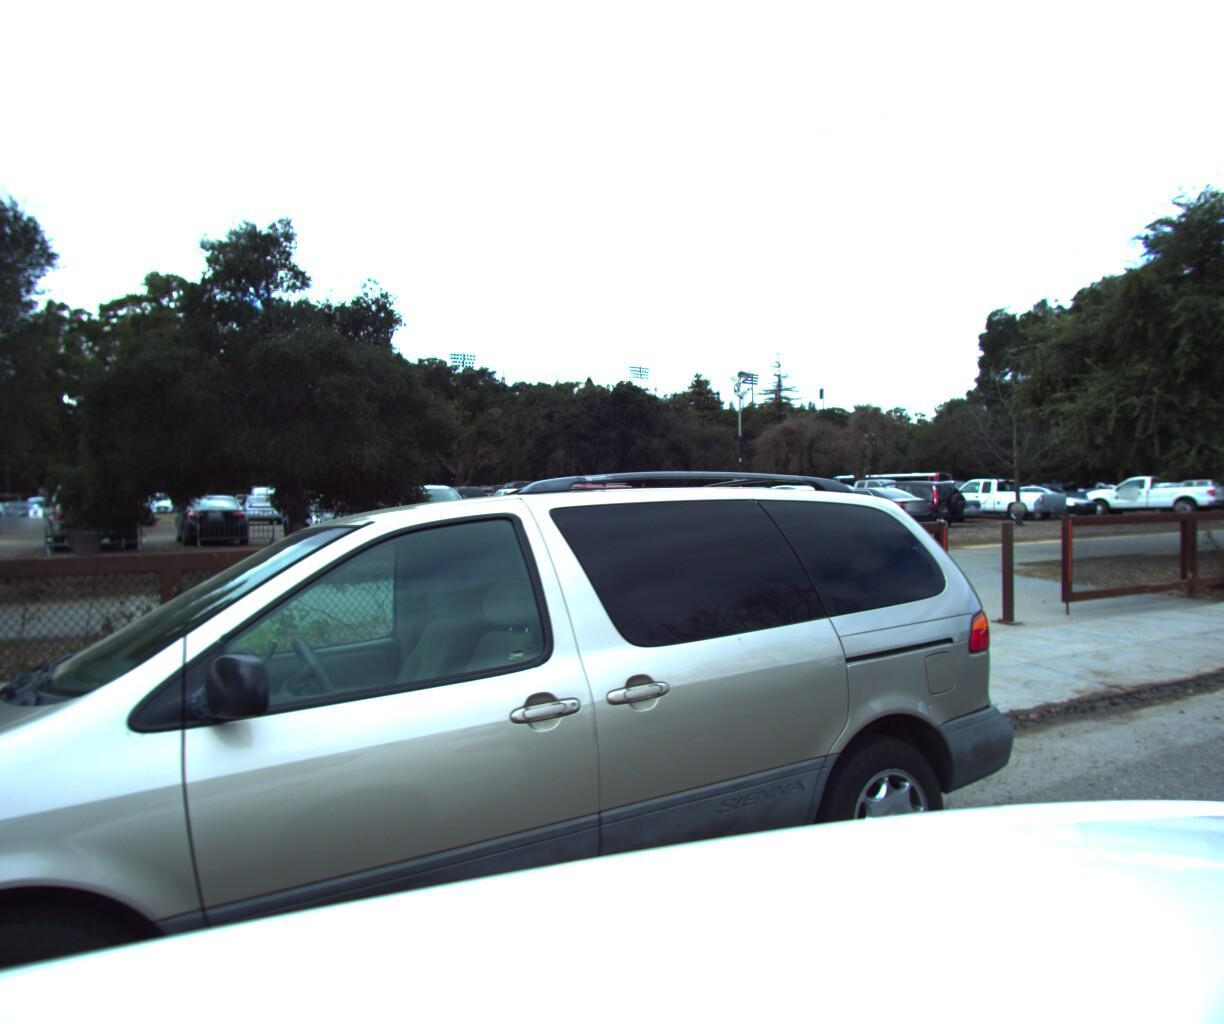car: (0, 434, 1086, 1024)
